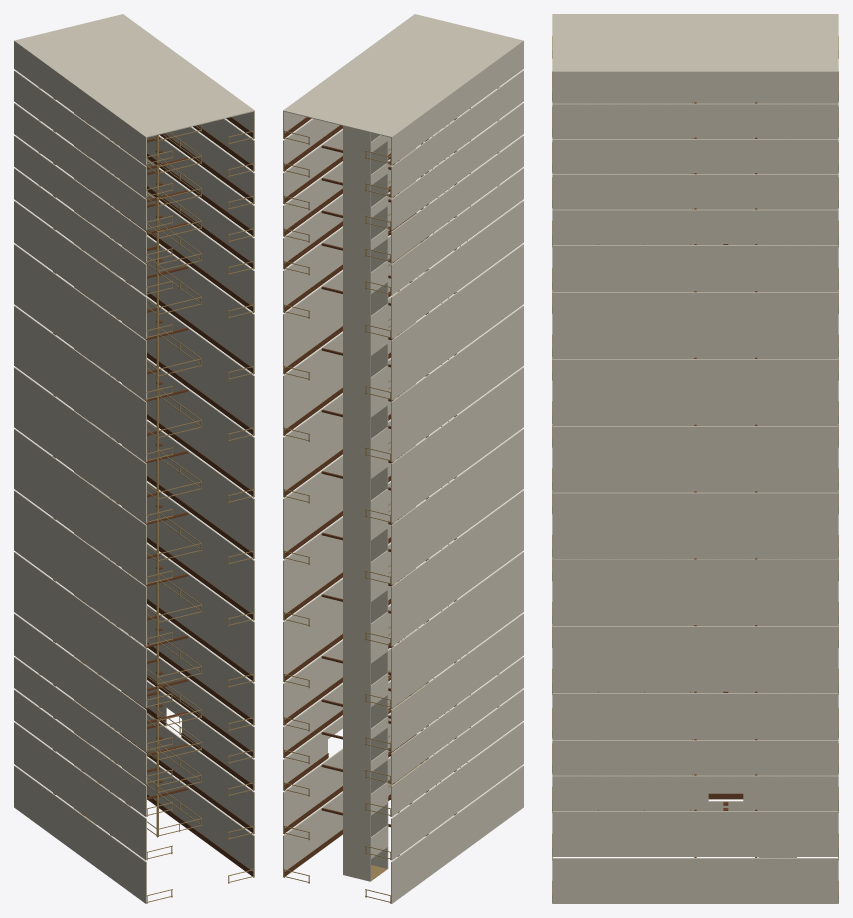
Rendered from AST-CIR-005_aft_uniforms_d03.glb.
3 views of the same model, side by side, from view 1: azimuth 30°, elevation 25°; view 2: azimuth 150°, elevation 25°; view 3: azimuth 270°, elevation 25° (orthographic). The views are drawn at different scales.
Parts seen in each view (by area): view 1: CORE_BATCH_ivory_enamel, CORE_BATCH_warm_walnut, CORE_BATCH_champagne_metal, CORE_OuterWall_02_1_Uniforms_Aft; view 2: CORE_BATCH_ivory_enamel, CORE_BATCH_warm_walnut, CORE_BATCH_champagne_metal, CORE_OuterWall_02_1_Uniforms_Fore; view 3: CORE_BATCH_ivory_enamel, CORE_OuterWall_02_1_Uniforms_Aft, CORE_OuterWall_02_1_Uniforms_Fore, CORE_BATCH_champagne_metal.
Part boxes in pixels (box(x1,y1,x2,y2)): CORE_BATCH_ivory_enamel: box(14, 14, 254, 903); CORE_BATCH_warm_walnut: box(53, 97, 253, 875); CORE_BATCH_champagne_metal: box(38, 87, 254, 903); CORE_OuterWall_02_1_Uniforms_Aft: box(182, 707, 254, 790); CORE_BATCH_ivory_enamel: box(283, 14, 523, 903); CORE_BATCH_warm_walnut: box(284, 117, 456, 875); CORE_BATCH_champagne_metal: box(283, 87, 499, 903); CORE_OuterWall_02_1_Uniforms_Fore: box(283, 727, 327, 790); CORE_BATCH_ivory_enamel: box(552, 14, 838, 903); CORE_OuterWall_02_1_Uniforms_Aft: box(552, 775, 708, 809); CORE_OuterWall_02_1_Uniforms_Fore: box(743, 775, 838, 809); CORE_BATCH_champagne_metal: box(552, 36, 838, 902).
Size of the model in its own units: 15.76 by 106 by 33.08.
Materials: 4 (3 with a texture image).
